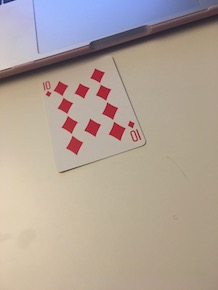TenOfDiamonds: (35, 54, 148, 174)
